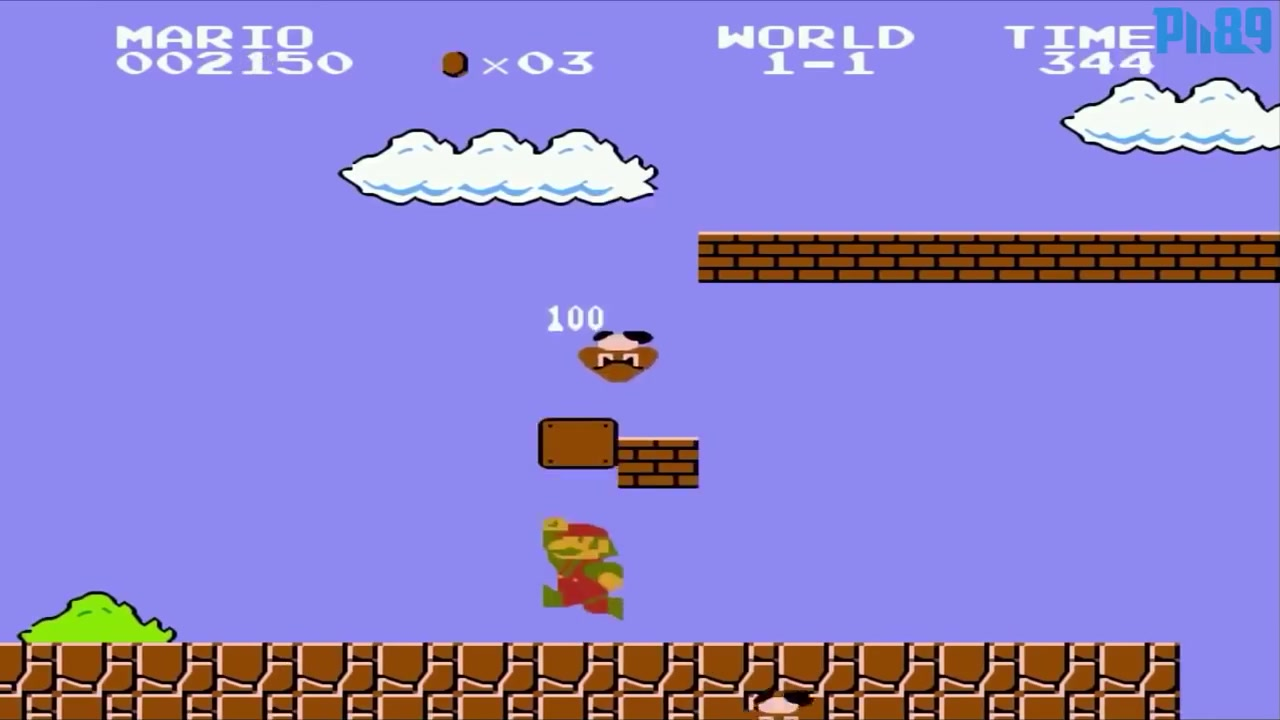mario: (523, 505, 628, 624)
